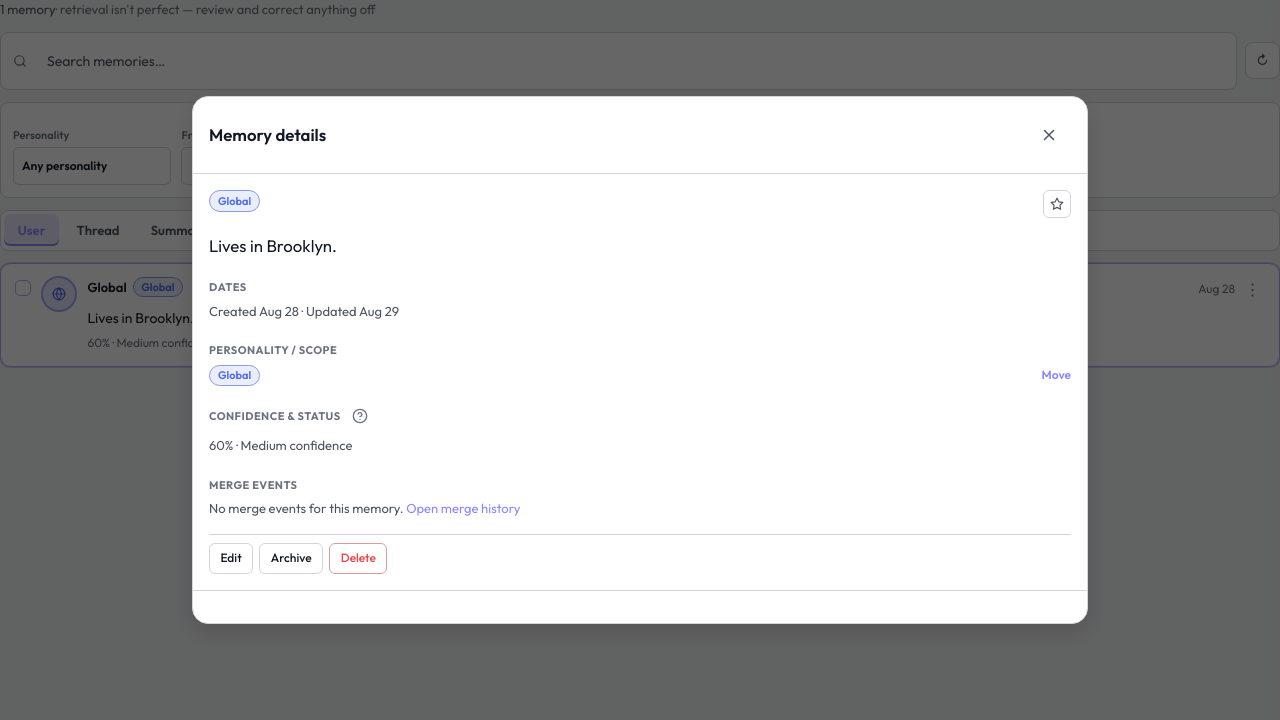
Test case: MemoriesListTabComponent focus layout › clears focus when the mobile modal dismisses
Click the button named "Close".
click(1049, 135)  # box [1027,113,1071,157]
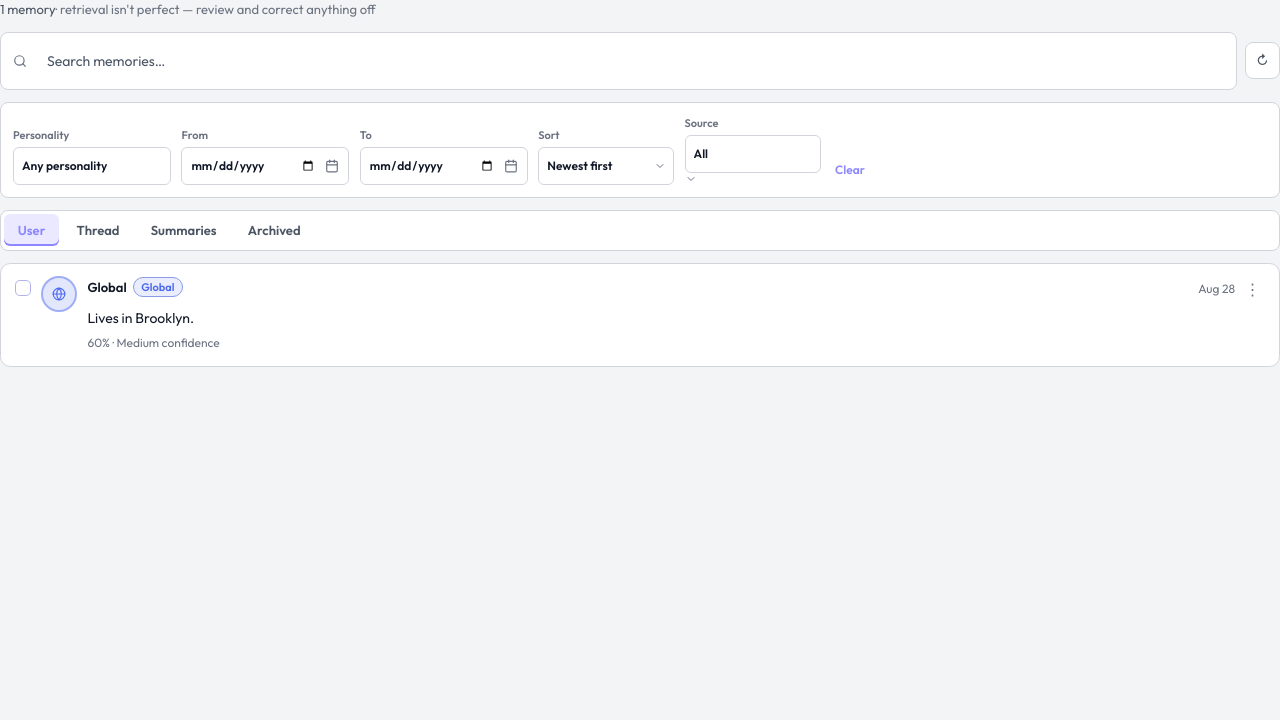
Now the heading "Memory details" is gone
